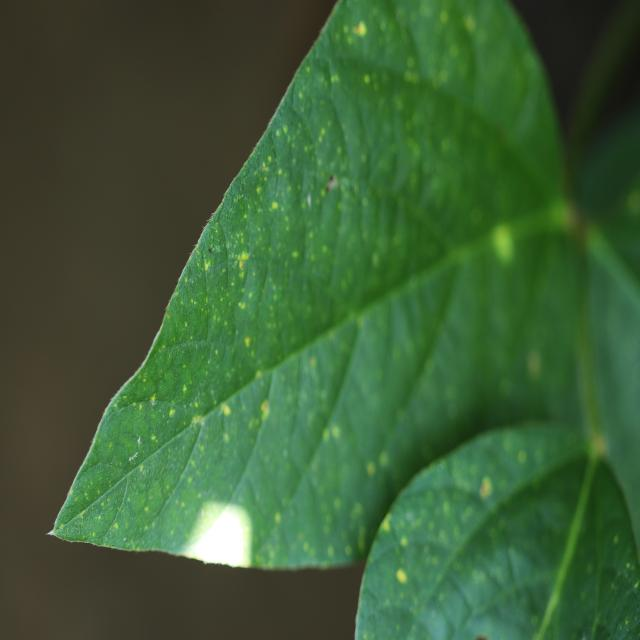Soybean: (46, 0, 640, 640)
downey_mildew: (242, 328, 339, 494)
